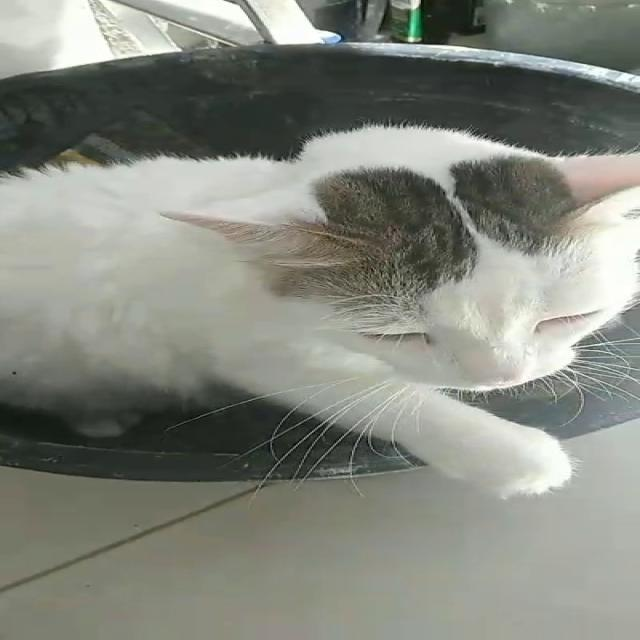Simba: (17, 123, 638, 507)
